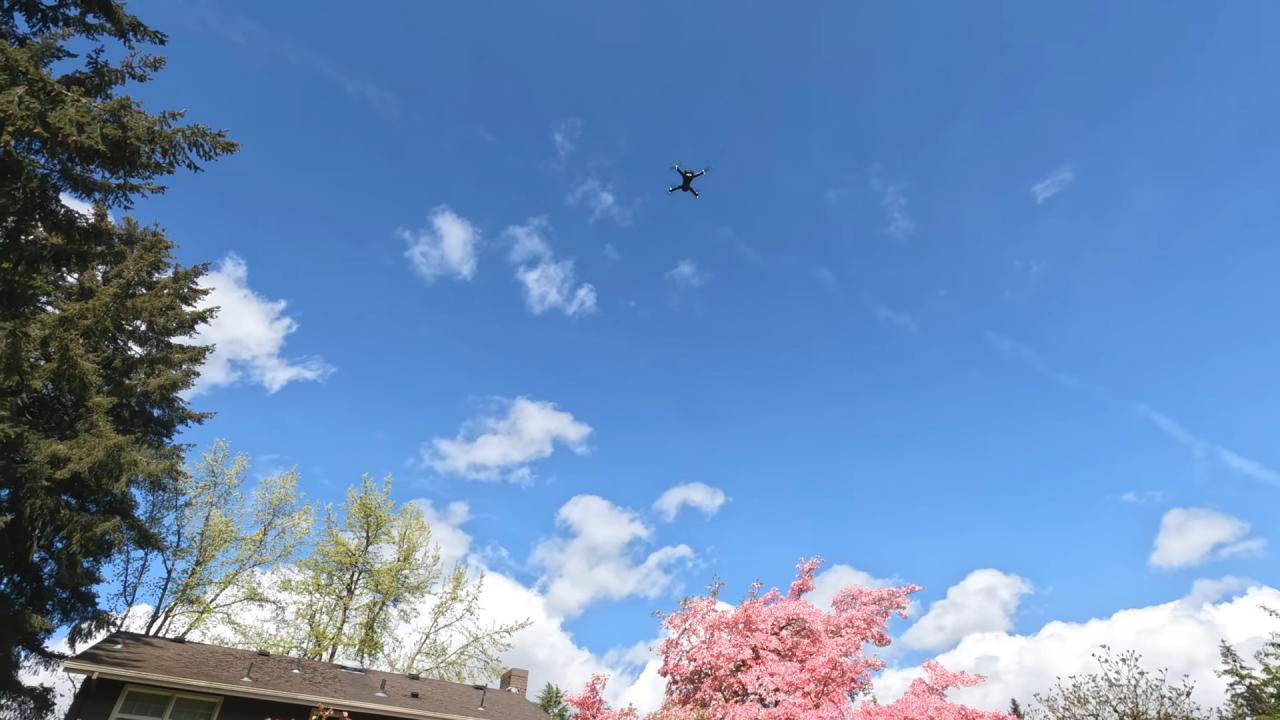Drone: (654, 152, 718, 208)
